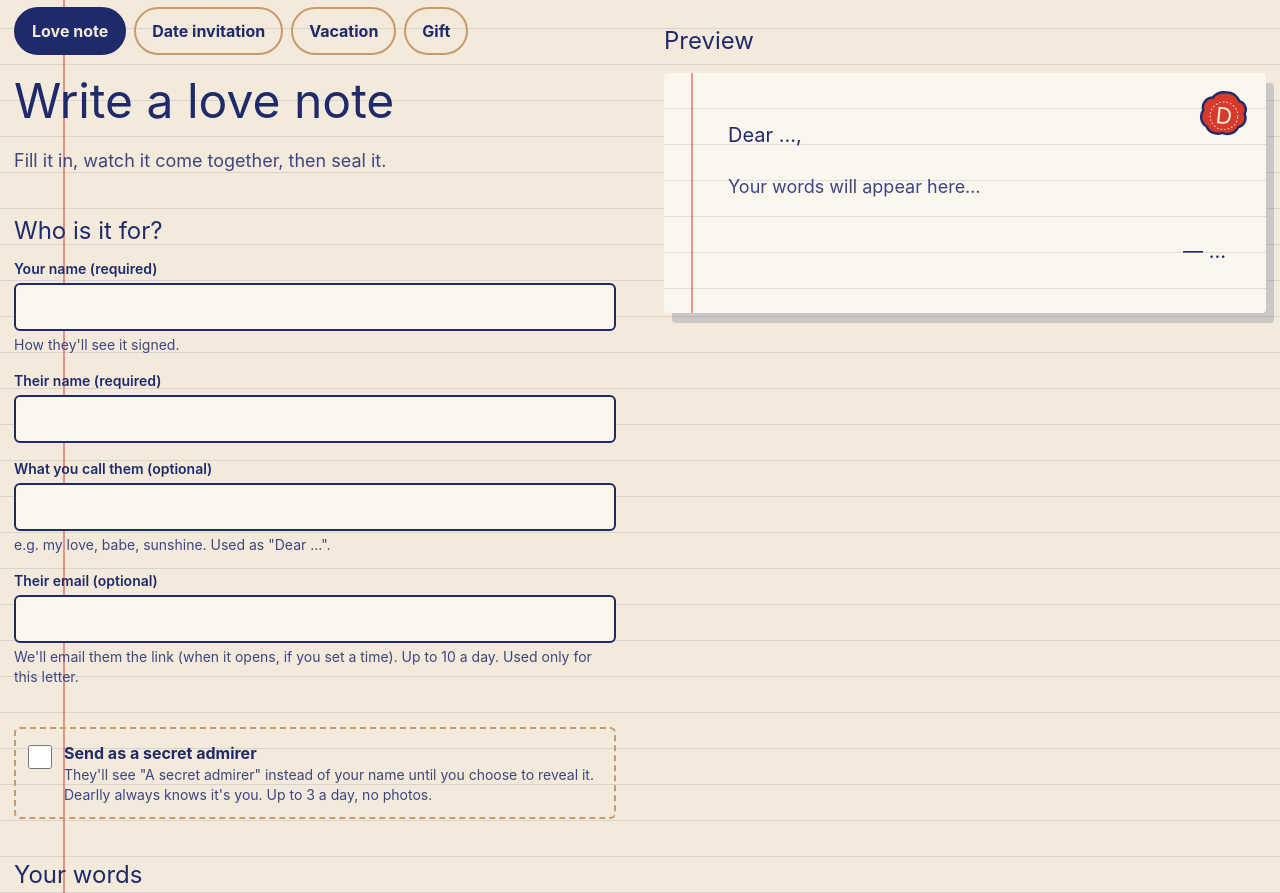
Test: WriteLetter › can't be sealed until the essentials are filled in
The width and height of the screenshot is (1280, 893).
In the field labelled "Your name (required) How they'll see it signed.": x=315, y=307 14,283 -> 616,331, type "Ada"
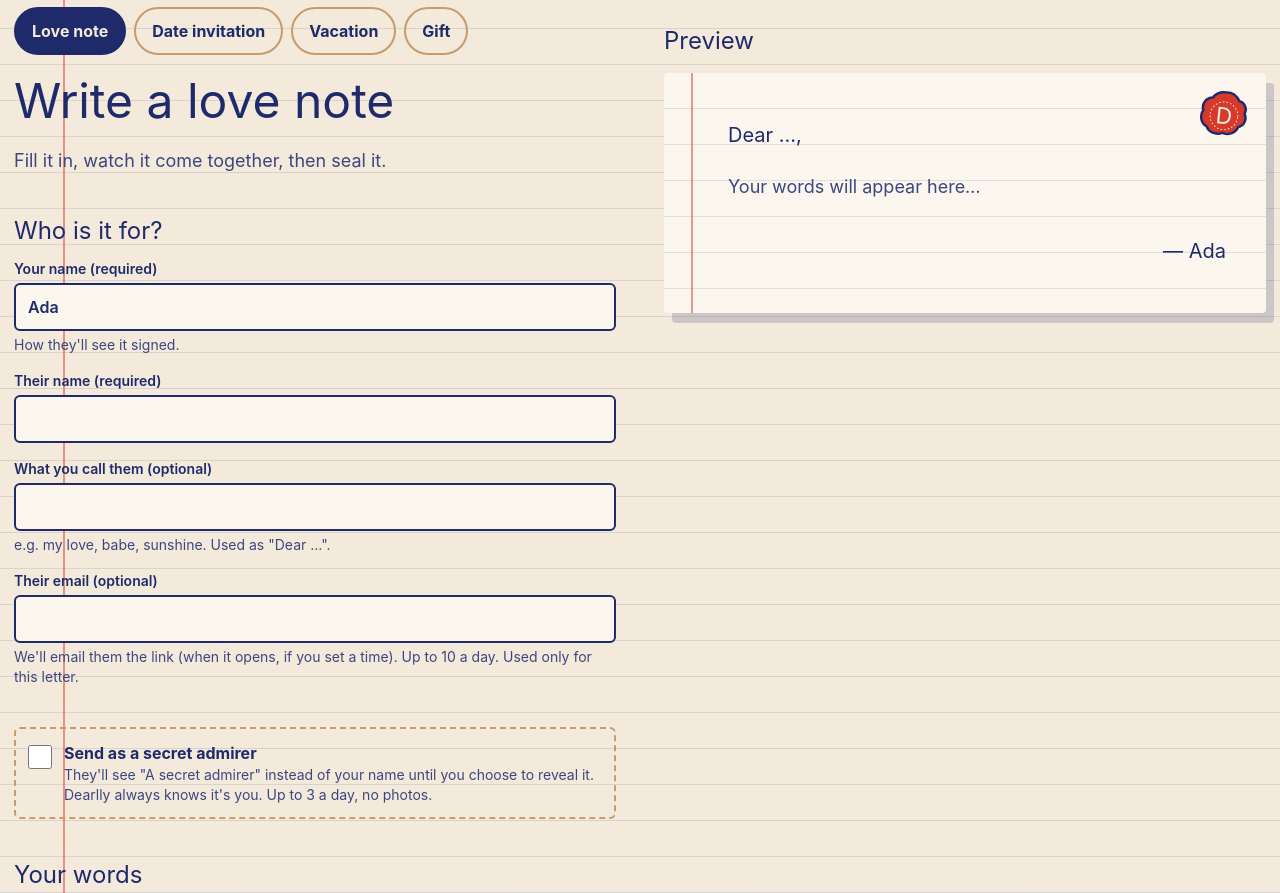
In the field labelled "Their name (required)": x=315, y=419 14,395 -> 616,443, type "Tolu"
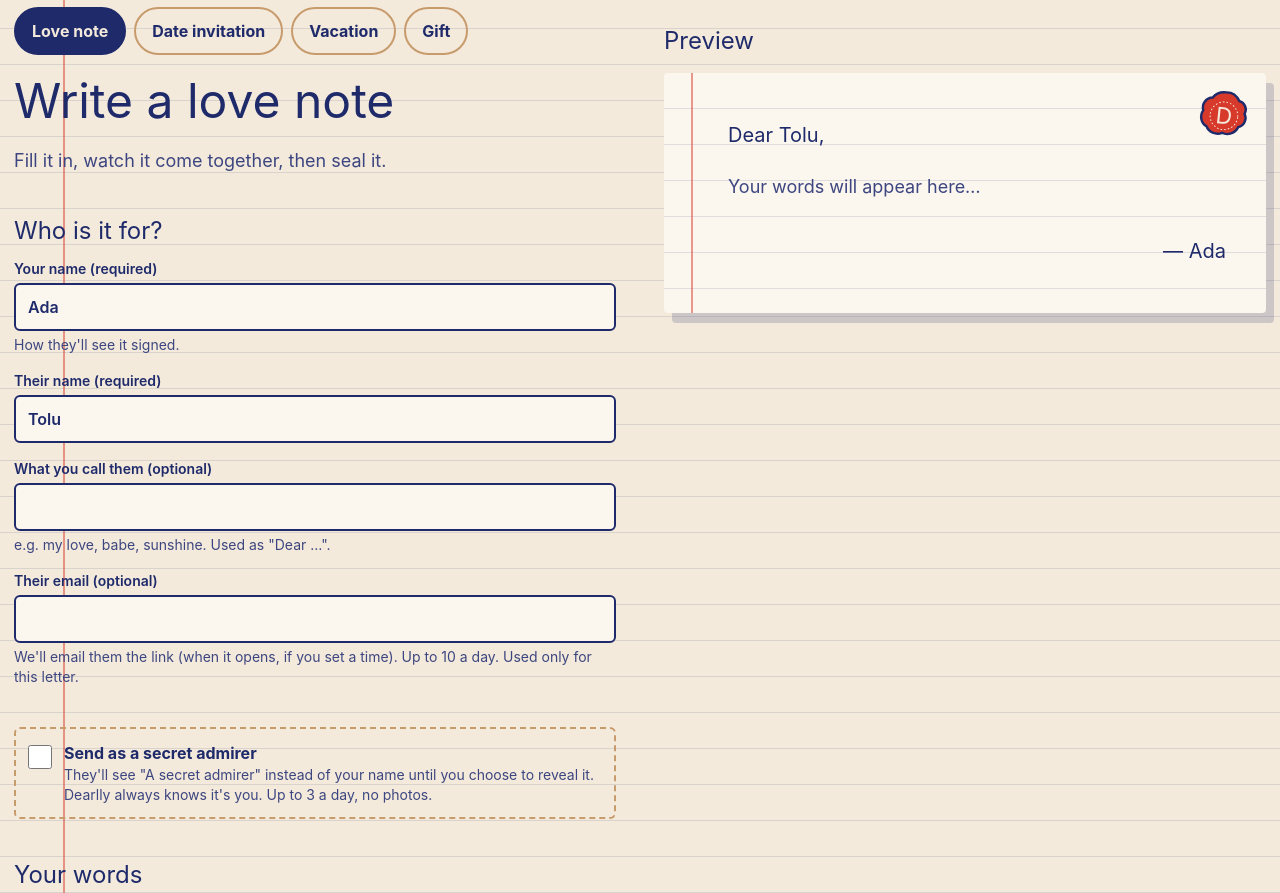
In the field labelled "What you call them": x=315, y=507 14,483 -> 616,531, type "my love"
(page scrolled)
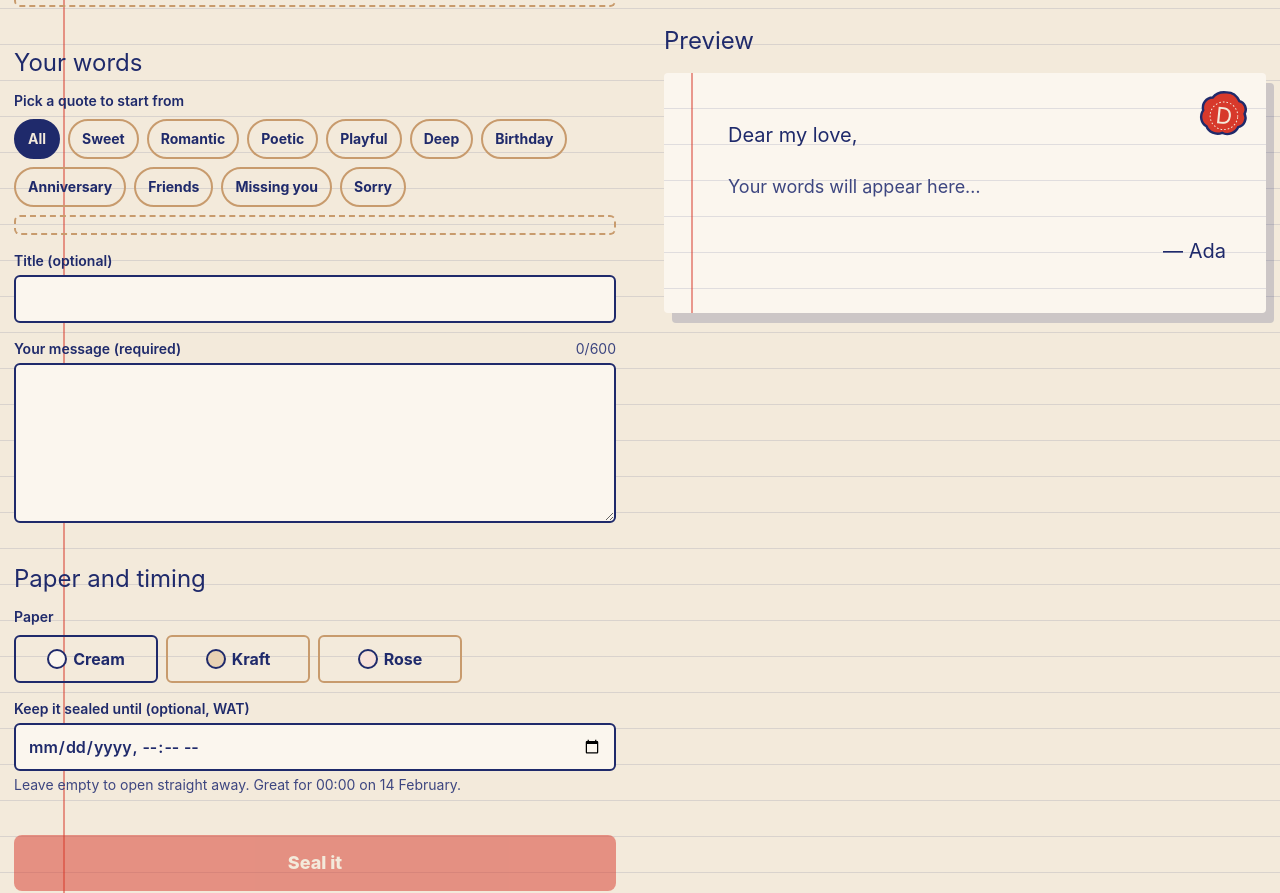
In the text box labelled "Your message (required) 0/600": x=315, y=443 14,363 -> 616,523, type "Hi"
(page scrolled)
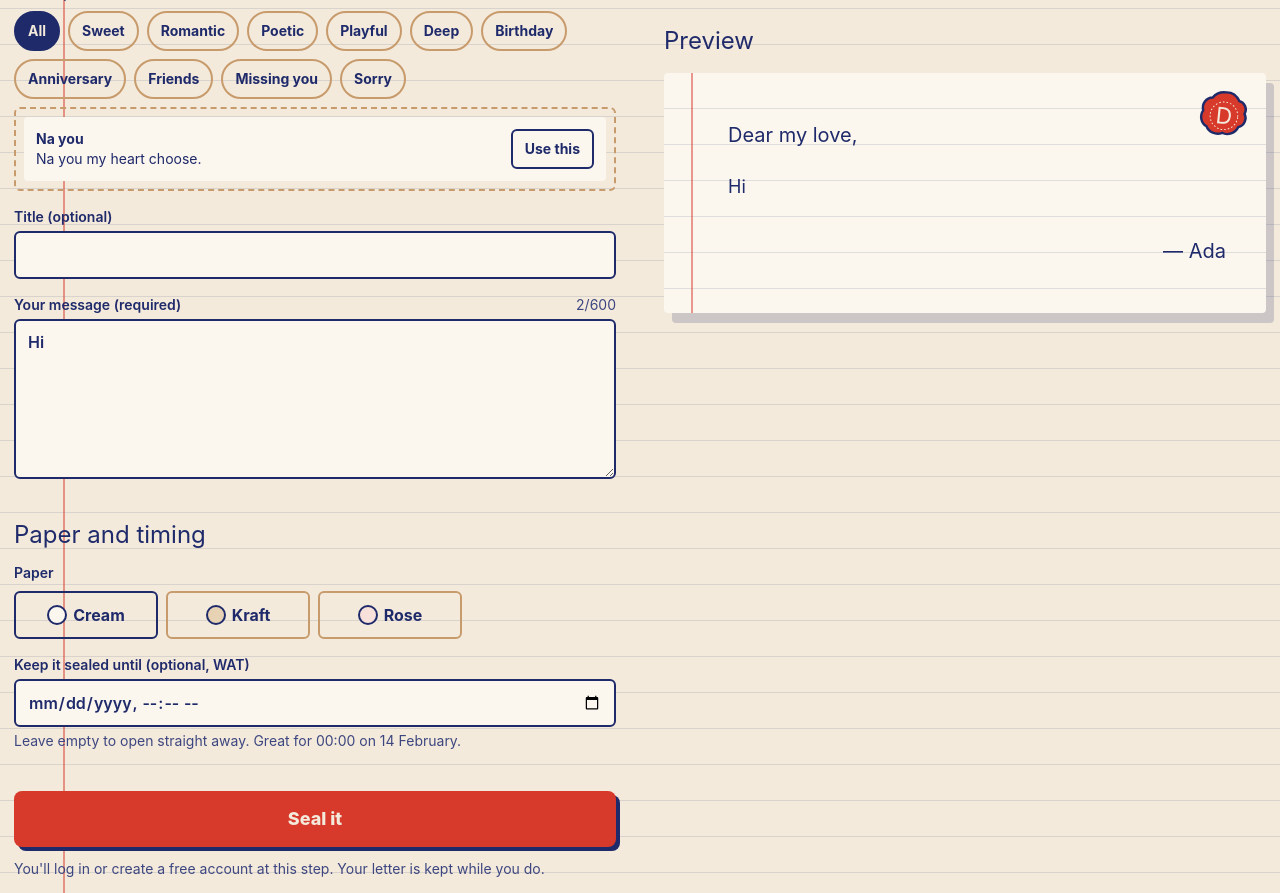
Check: the button "Seal it" is enabled, box 14,791 -> 616,847
